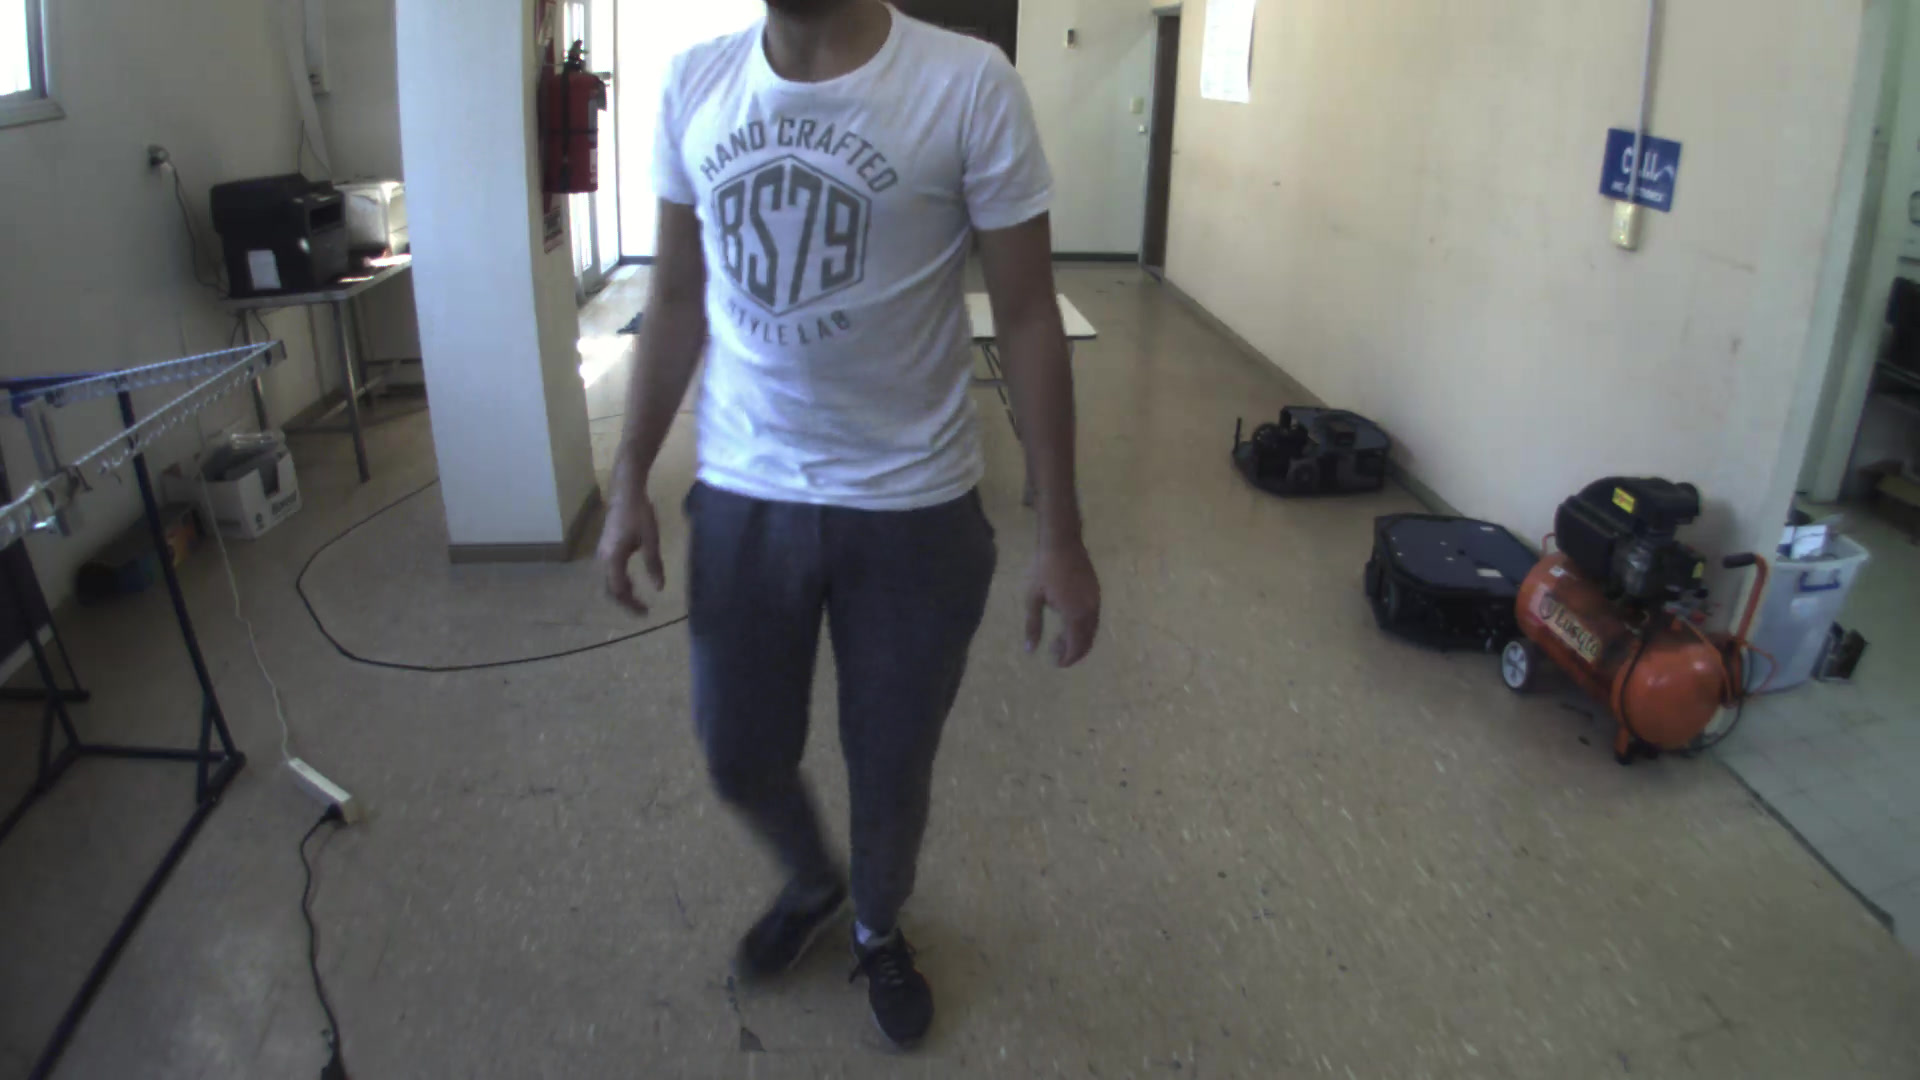hand: (1011, 513, 1112, 678), (582, 479, 673, 613)
